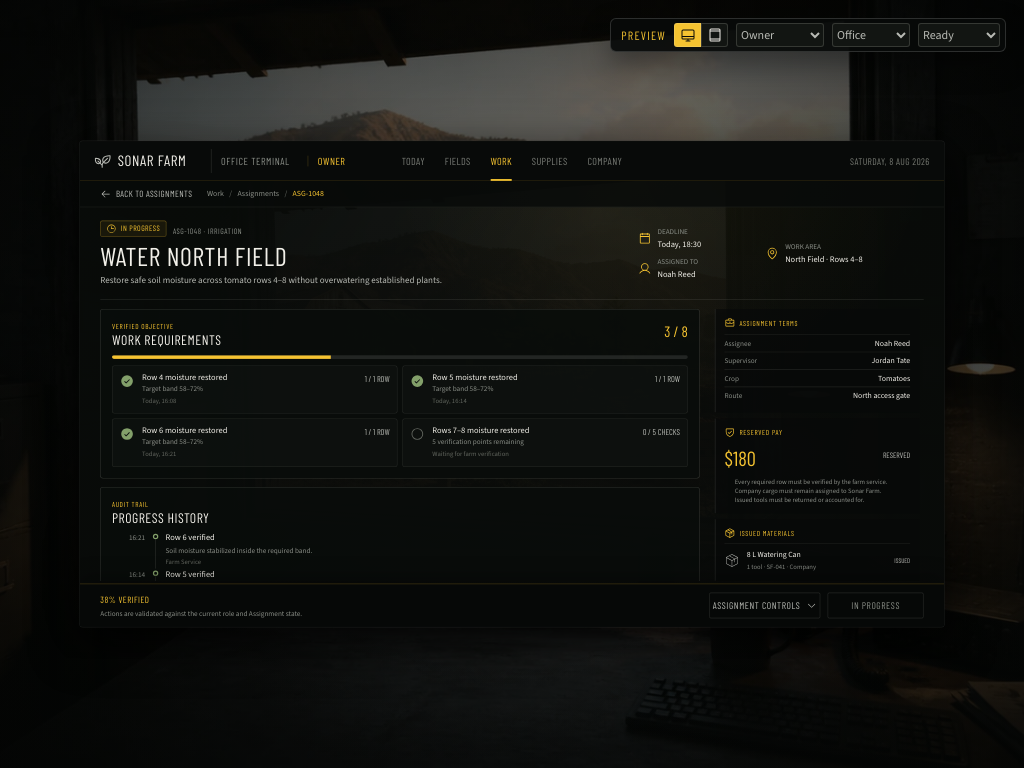
it: Farm Business Hub › reassigns through the reusable keyboard-select control
Click the button "Assignment Controls" at [765, 606], box [709,593,820,618]
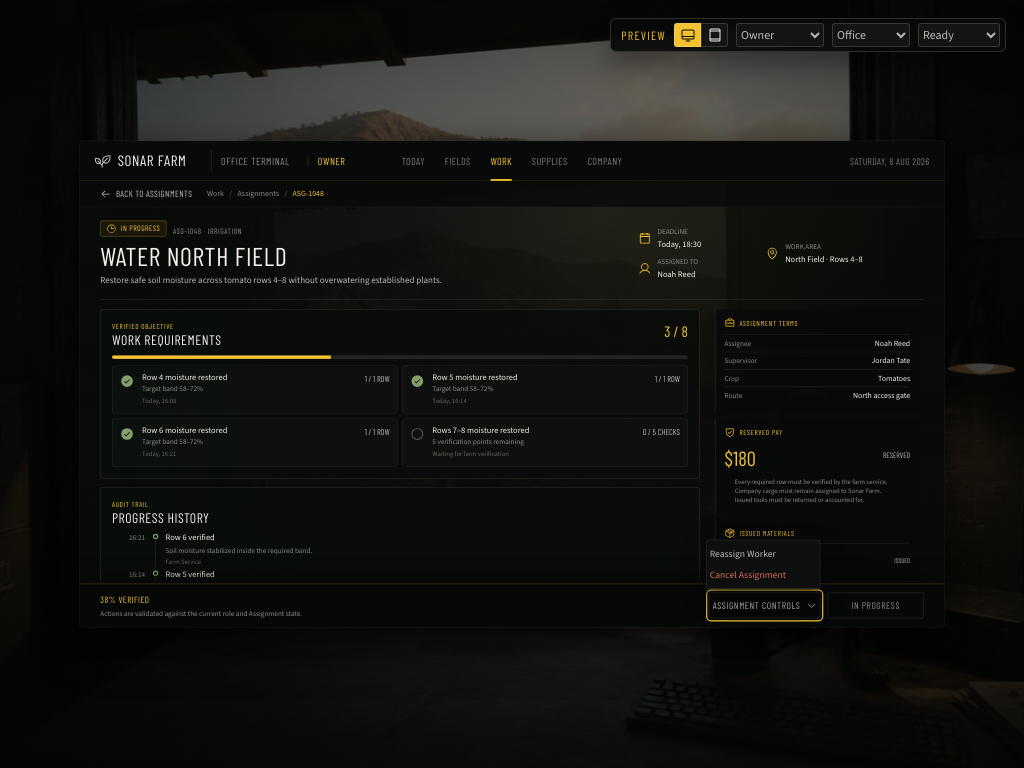
Click the button "Reassign Worker" at [763, 554], box [710,543,817,564]
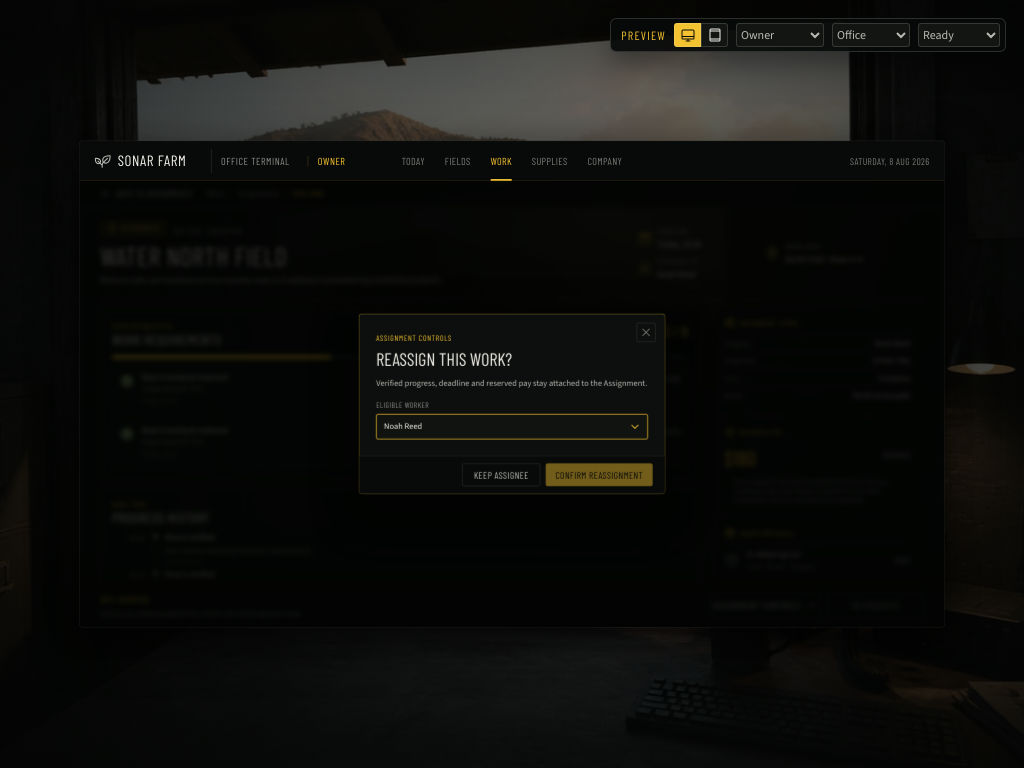
Click the dropdown named "Eligible Worker" at [403, 426], box [376,414,648,439]
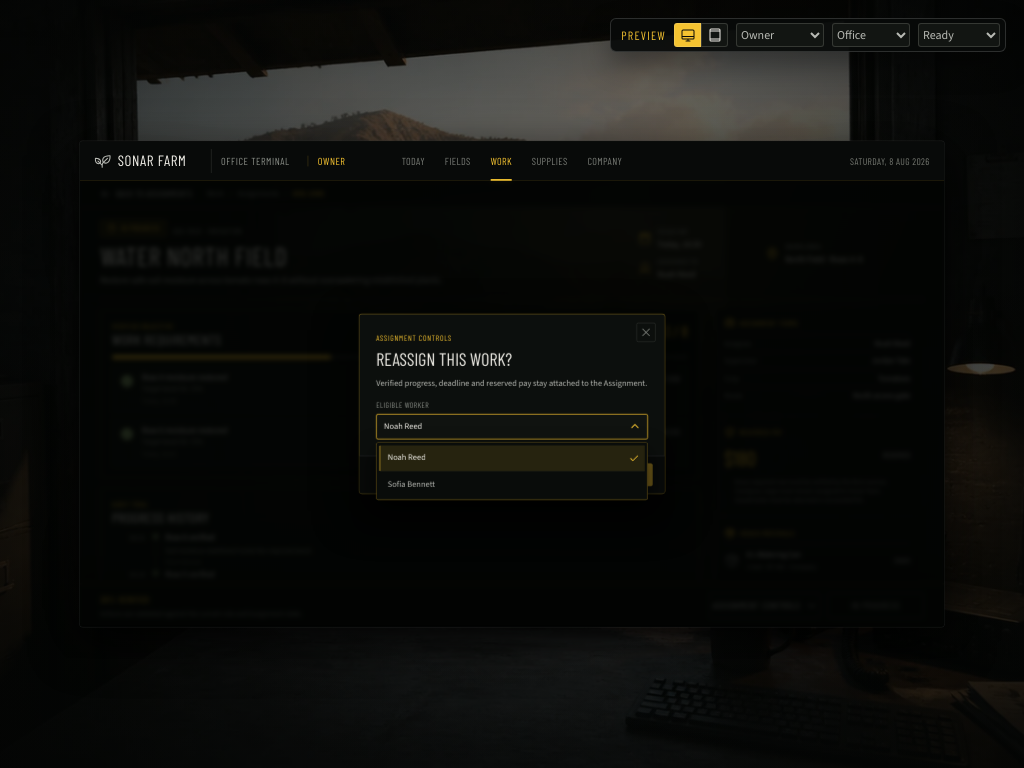
Press Arrowdown Enter
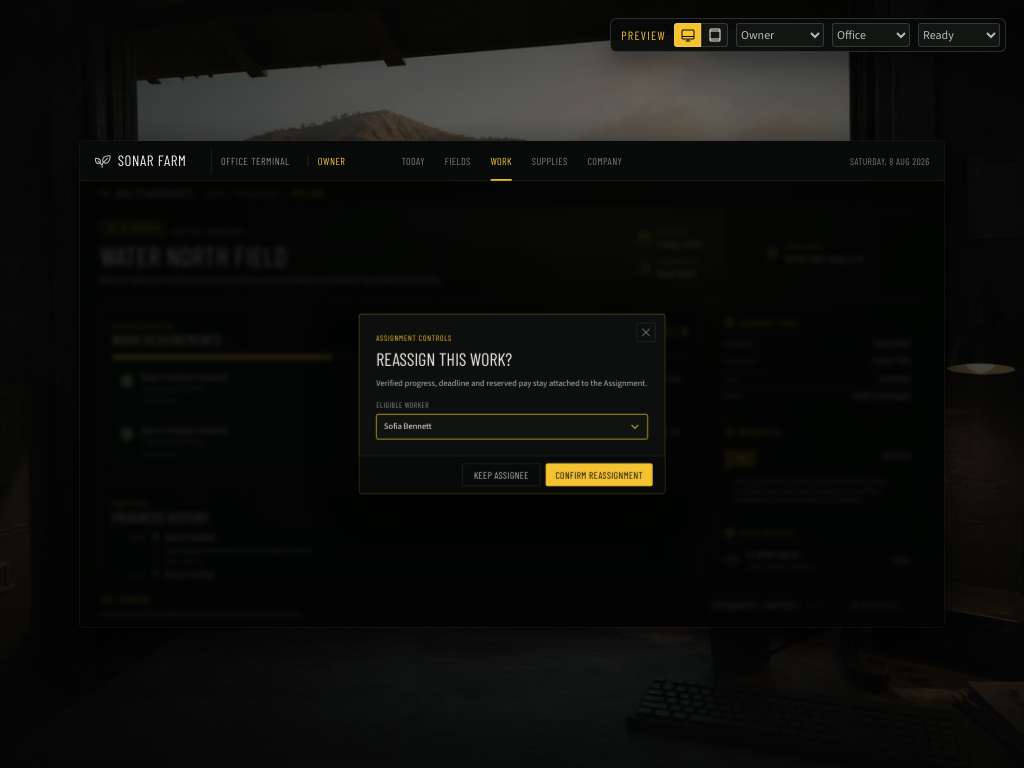
Expected: the dropdown named "Eligible Worker" reads "Sofia Bennett", [376,414,648,439]
Click the button "Confirm Reassignment" at [599, 475], box [546,463,653,486]
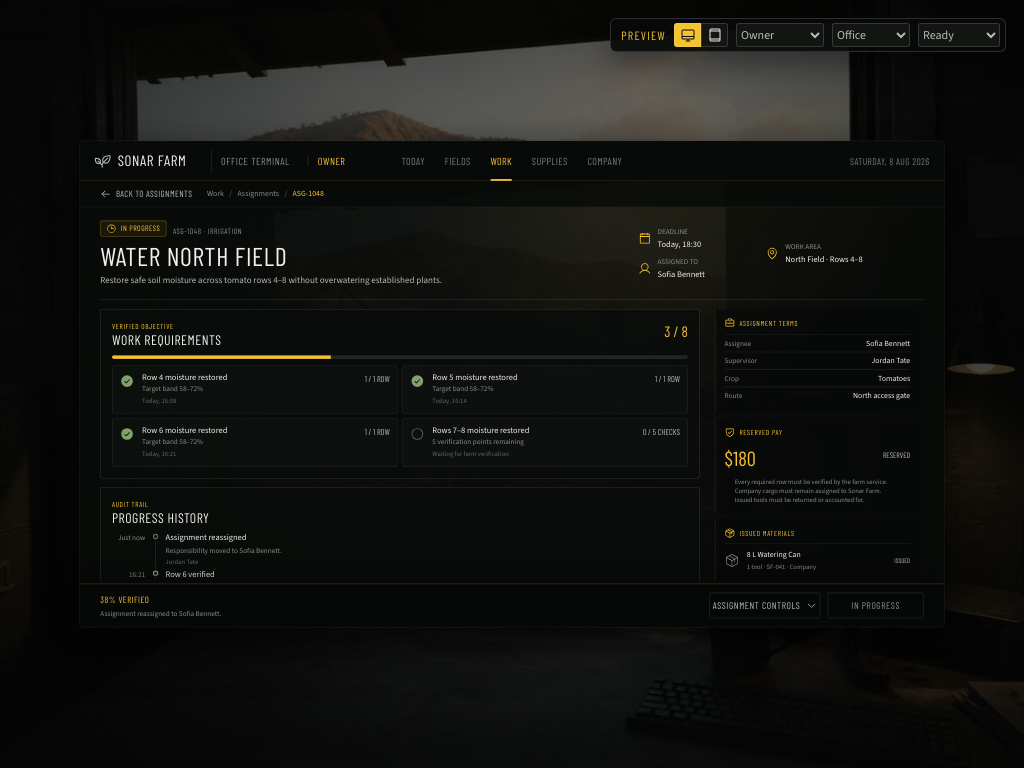
Expected: the text "Assignment reassigned to Sofia Bennett." is shown, [100,608,221,618]
Expected: the text "Sofia Bennett" below "Work area" is shown, [657,269,705,280]
